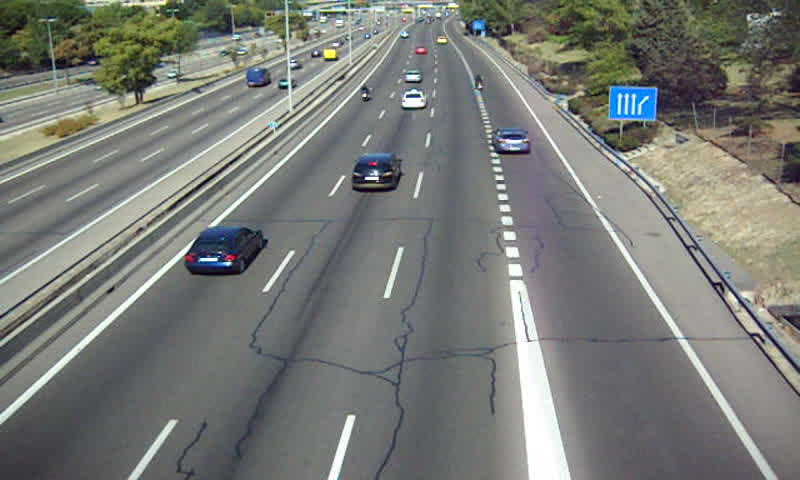car: (182, 227, 263, 277), (350, 152, 402, 188), (491, 127, 531, 155), (400, 90, 427, 109), (403, 68, 422, 83)
motorcycle: (360, 83, 372, 105), (473, 75, 485, 92)
